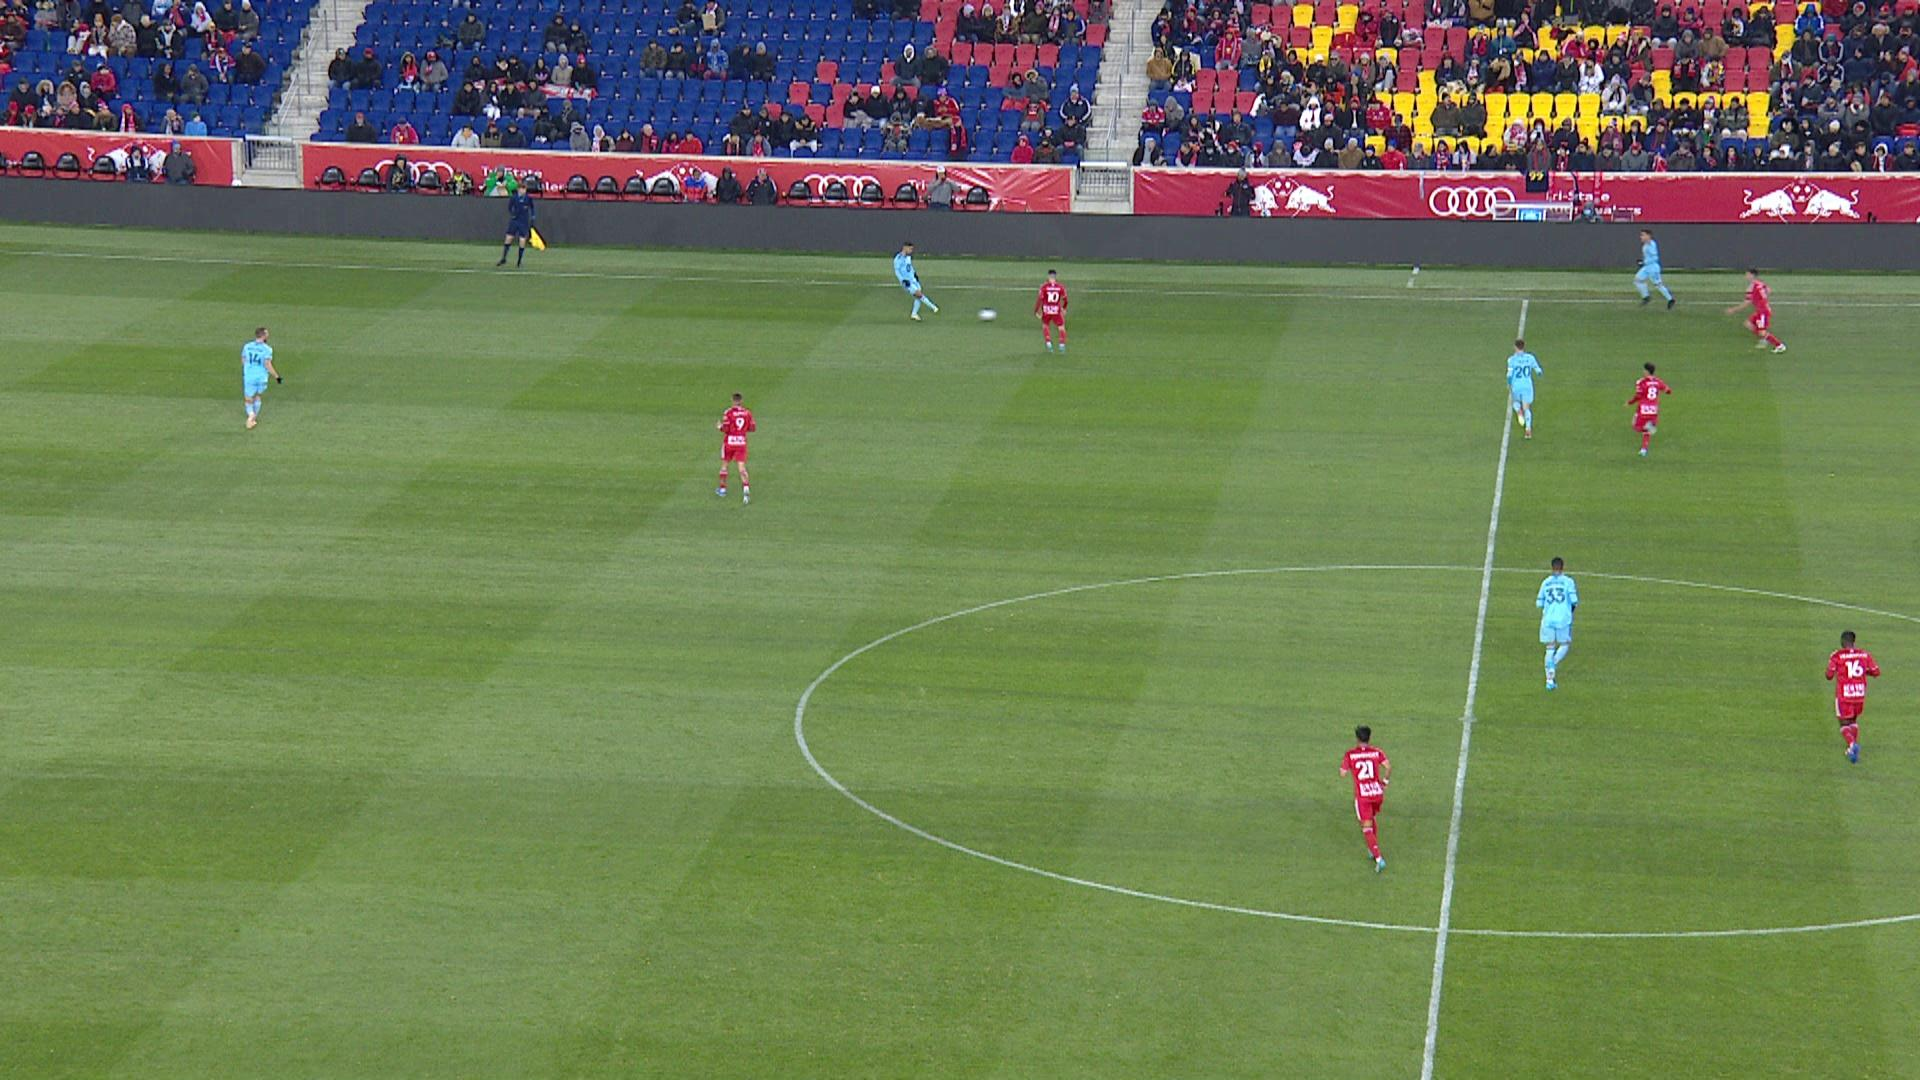football: (978, 309, 998, 322)
